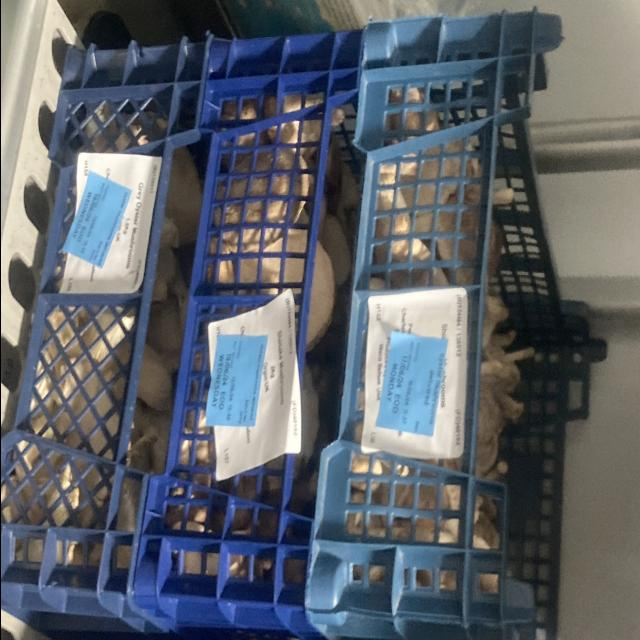product-labels: (375, 332, 446, 436), (57, 171, 132, 269), (205, 329, 267, 430)
